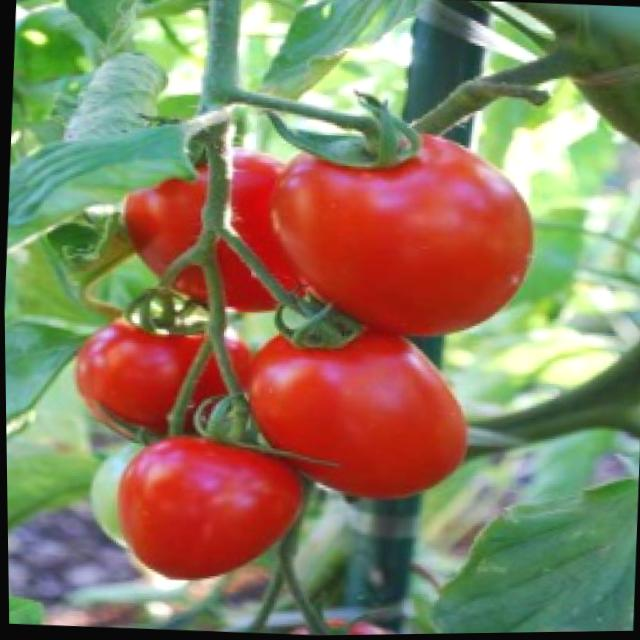tomato: (269, 126, 536, 345), (114, 106, 314, 318), (245, 324, 473, 500), (105, 433, 307, 592), (70, 319, 255, 448)
